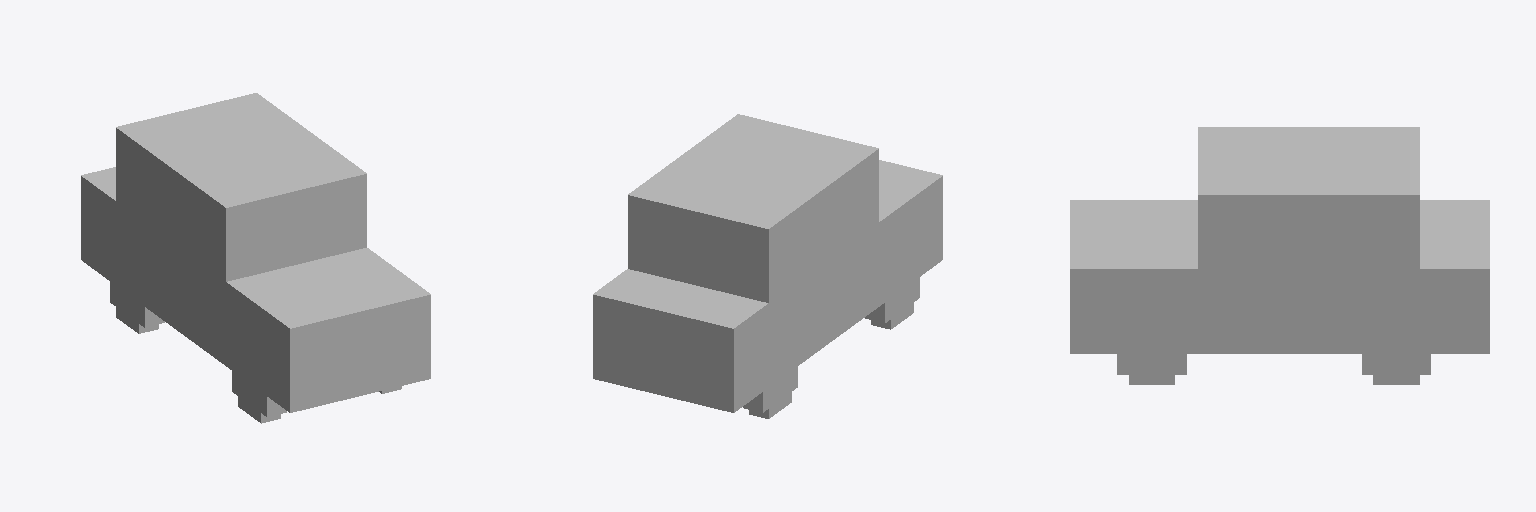
File: blue.obj
3 views of the same model, side by side, from view 1: azimuth 30°, elevation 25°; view 2: azimuth 150°, elevation 25°; view 3: azimuth 270°, elevation 25° (orthographic).
Parts seen in each view (by area): view 1: object 1; view 2: object 1; view 3: object 1.
Part boxes in pixels (x1,y1,x2,y2): object 1: (81,93,430,423); object 1: (593,114,942,418); object 1: (1070,127,1489,384).
Size of the model in its own units: 1.4 by 1.8 by 3.6.